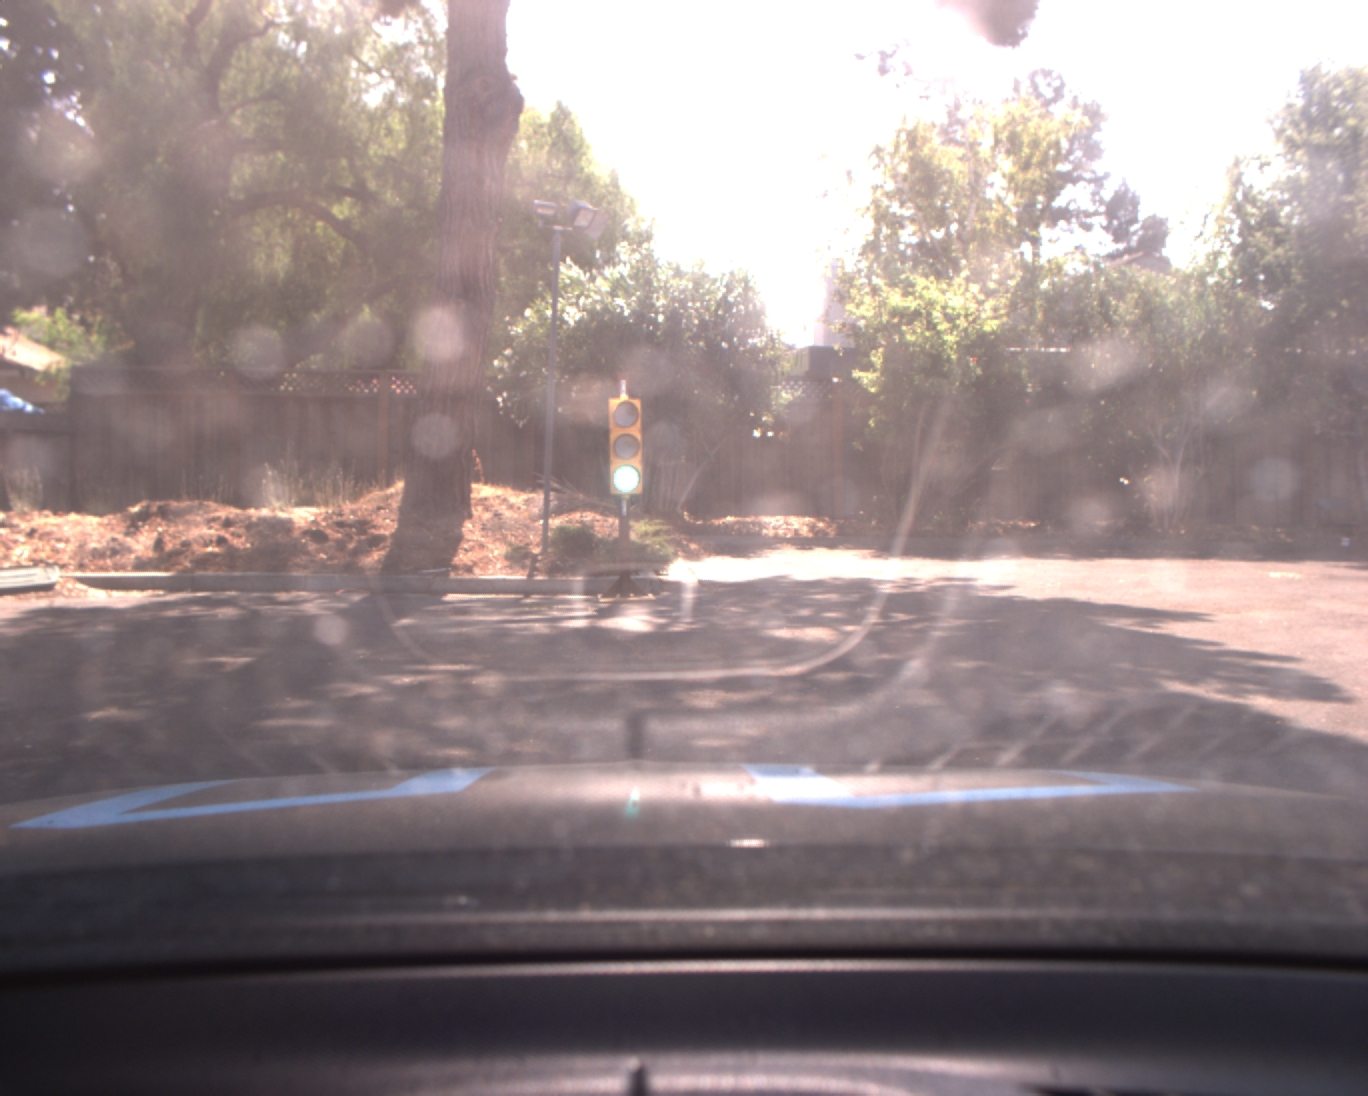green: (607, 393, 645, 501)
